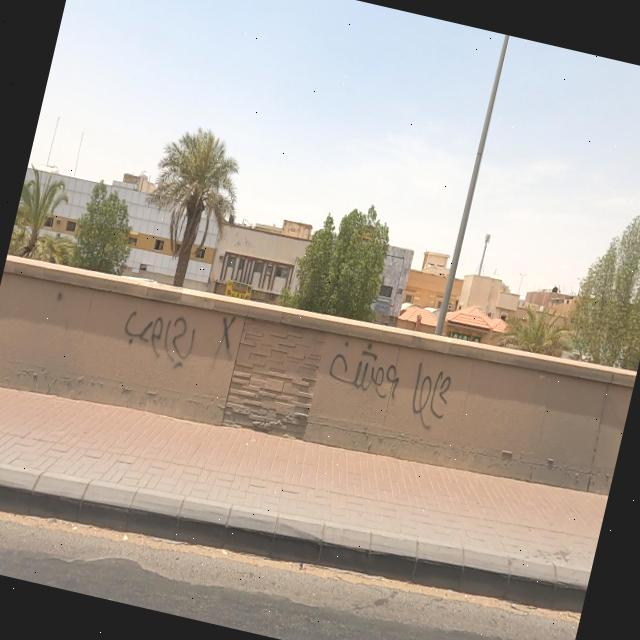Graffiti: (322, 335, 462, 435), (117, 294, 243, 384)
